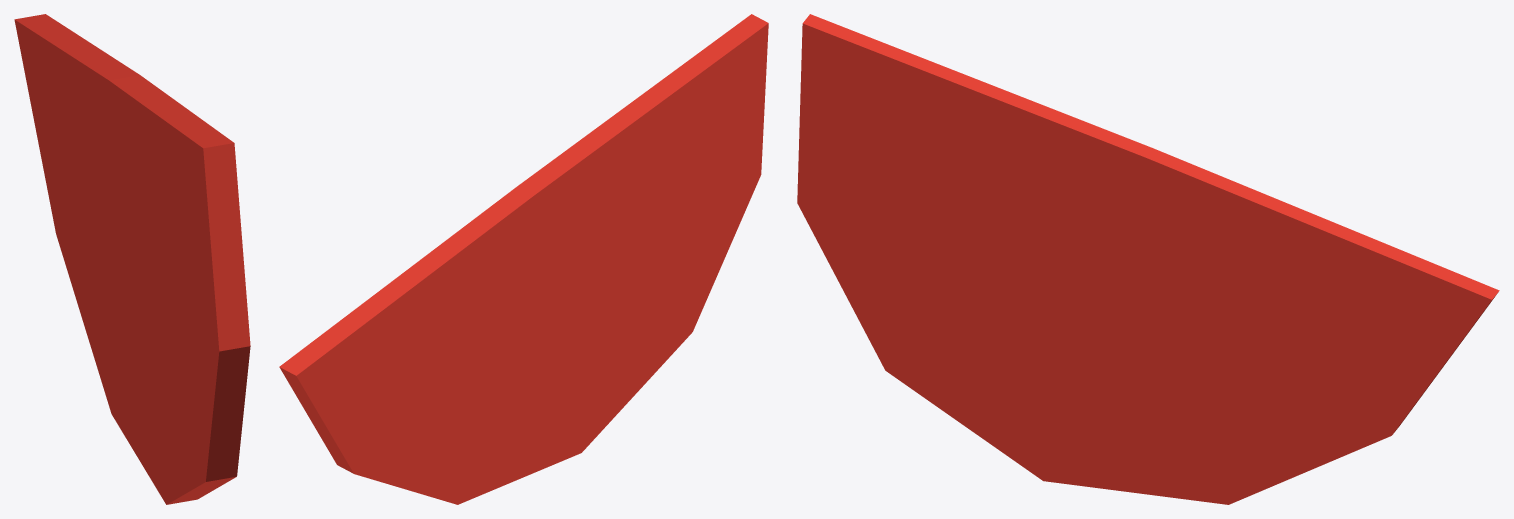
The model's file is n5_group1251093246_lev5.glb.
The picture shows the model from 3 angles, left to right: view 1: azimuth 30°, elevation 25°; view 2: azimuth 150°, elevation 25°; view 3: azimuth 270°, elevation 25°; orthographic projection. The views are drawn at different scales.
Parts seen in each view (by area): view 1: n5_group1251093246_lev5; view 2: n5_group1251093246_lev5; view 3: n5_group1251093246_lev5.
Boxes of the visible parts, x1=… form: n5_group1251093246_lev5: x1=14, y1=14, x2=250, y2=504; n5_group1251093246_lev5: x1=279, y1=14, x2=768, y2=504; n5_group1251093246_lev5: x1=797, y1=14, x2=1499, y2=504.
Size of the model in its own units: 0.4008 by 0.7748 by 1.18.
